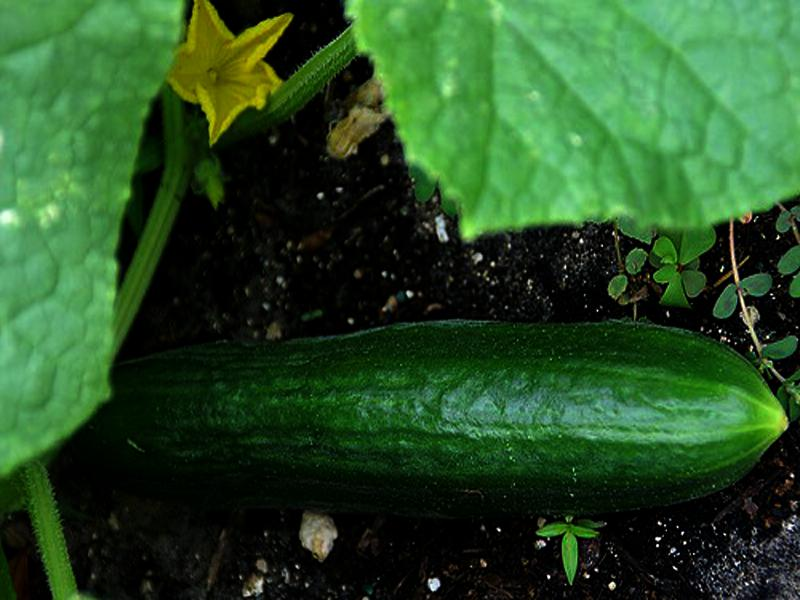Cucumber: (70, 319, 790, 519)
